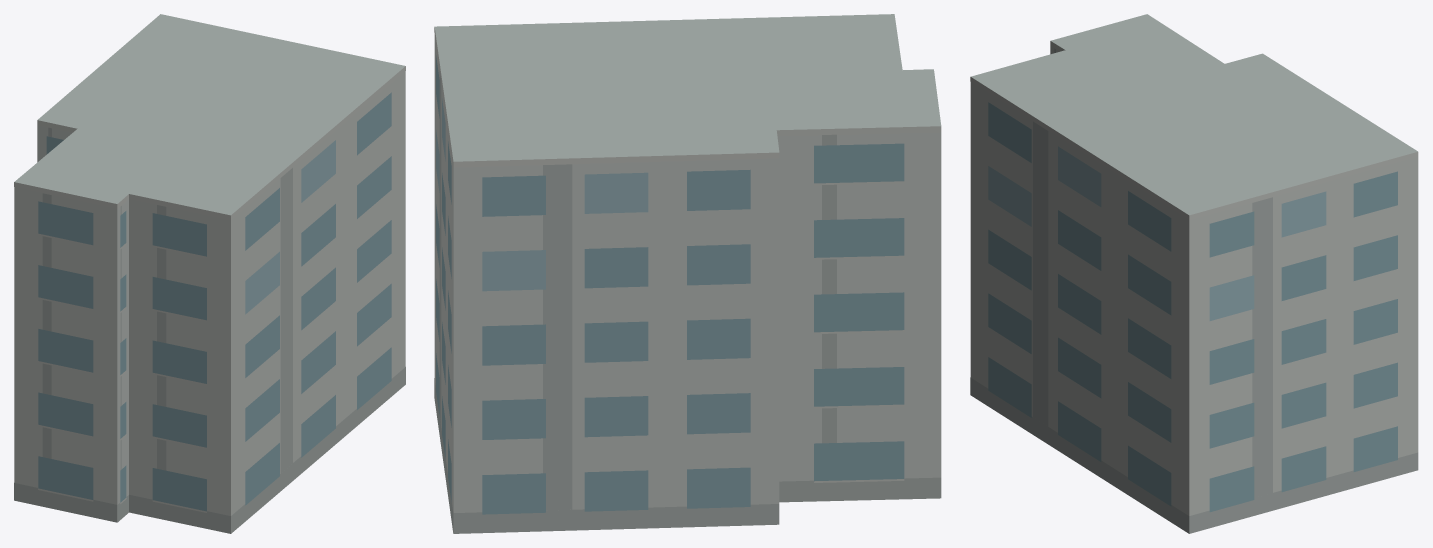
The model's file is survey-upis-32600452.glb.
The picture shows the model from 3 angles, left to right: view 1: azimuth 30°, elevation 25°; view 2: azimuth 150°, elevation 25°; view 3: azimuth 270°, elevation 25°; orthographic projection. The views are drawn at different scales.
Visible parts, largest first — view 1: survey-upis-32600452.tmp; view 2: survey-upis-32600452.tmp; view 3: survey-upis-32600452.tmp.
Boxes of the visible parts, <box> form: survey-upis-32600452.tmp: <box>14,14,405,533</box>; survey-upis-32600452.tmp: <box>434,14,941,533</box>; survey-upis-32600452.tmp: <box>970,14,1418,533</box>.
Size of the model in its own units: 20.69 by 15.25 by 19.44.
